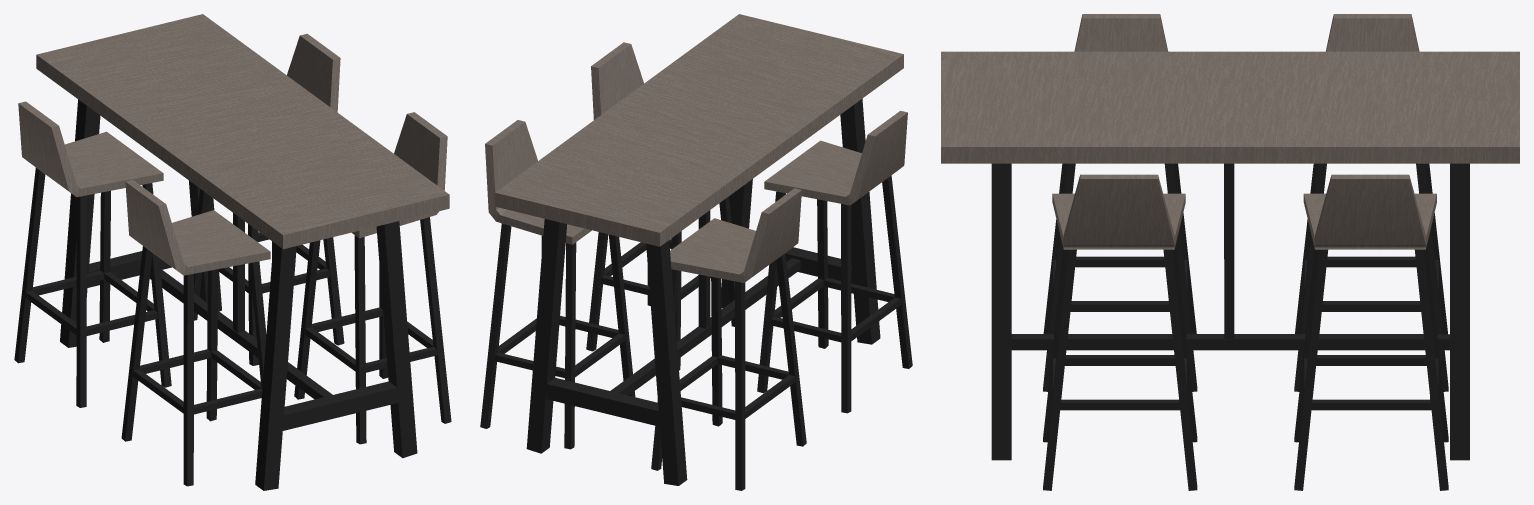
Rendered from prop-table-chairs.glb.
The picture shows the model from 3 angles, left to right: view 1: azimuth 30°, elevation 25°; view 2: azimuth 150°, elevation 25°; view 3: azimuth 270°, elevation 25°; orthographic projection. The views are drawn at different scales.
Parts seen in each view (by area): view 1: pCube10, pCube22, pCube23, pCube21, pCube20; view 2: pCube10, pCube22, pCube23, pCube20, pCube21; view 3: pCube10, pCube20, pCube21, pCube23, pCube22.
Part boxes in pixels (x1,y1,x2,y2): pCube10: [36, 14, 449, 490]; pCube22: [121, 180, 270, 486]; pCube23: [14, 101, 171, 407]; pCube21: [294, 112, 451, 444]; pCube20: [194, 33, 344, 365]; pCube10: [495, 14, 903, 485]; pCube22: [757, 110, 912, 413]; pCube23: [651, 188, 806, 490]; pCube20: [480, 120, 635, 449]; pCube21: [586, 42, 734, 370]; pCube10: [941, 51, 1519, 460]; pCube20: [1294, 174, 1448, 490]; pCube21: [1043, 174, 1197, 490]; pCube23: [1294, 14, 1448, 391]; pCube22: [1043, 14, 1197, 391].
Bounding box in the file's own units: 0.8802 × 0.8002 × 1.31.
Materials: 1 (1 with a texture image).
